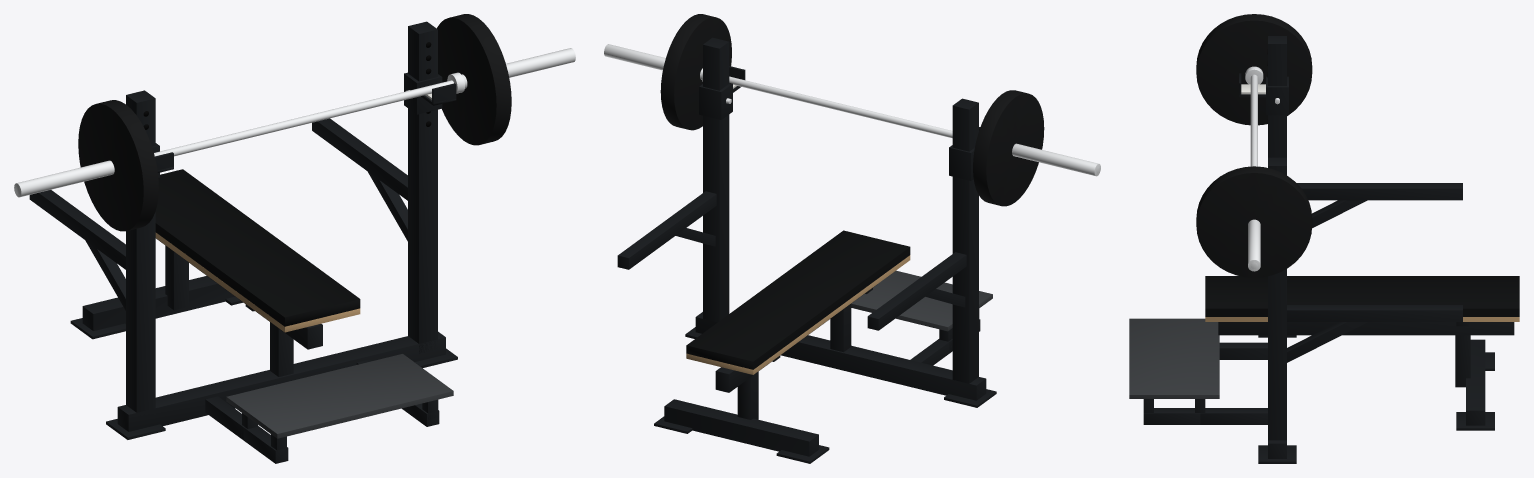
3 views of the same model, side by side, from view 1: azimuth 30°, elevation 25°; view 2: azimuth 150°, elevation 25°; view 3: azimuth 270°, elevation 25° (orthographic). The views are drawn at different scales.
Parts seen in each view (by area): view 1: pad, tread, frame.017, rubber, rubber.001, frame.011, frame, frame.003, chrome.002, frame.021, frame.015, chrome.003 (+10 smaller); view 2: pad, frame.017, frame.011, rubber, frame, rubber.001, frame.003, tread, frame.015, frame.021, chrome.002, wood (+8 smaller); view 3: pad, rubber.001, rubber, tread, frame.017, frame.006, frame.021, frame.015, frame.011, frame.003, frame.030, frame.022 (+10 smaller).
Boxes of the visible parts, <box> form: pad: <box>155,169,360,326</box>; tread: <box>226,354,453,438</box>; frame.017: <box>408,21,437,353</box>; rubber: <box>78,100,158,231</box>; rubber.001: <box>437,14,511,145</box>; frame.011: <box>126,90,155,417</box>; frame: <box>117,331,445,431</box>; frame.003: <box>82,276,234,330</box>; chrome.002: <box>15,80,453,194</box>; frame.021: <box>312,118,407,200</box>; frame.015: <box>29,190,125,269</box>; chrome.003: <box>14,160,114,197</box>; pad: <box>686,230,910,369</box>; frame.017: <box>703,37,729,322</box>; frame.011: <box>952,98,978,383</box>; rubber: <box>973,90,1044,206</box>; frame: <box>695,312,986,400</box>; rubber.001: <box>660,14,731,130</box>; frame.003: <box>664,399,818,456</box>; tread: <box>851,270,992,331</box>; frame.015: <box>867,252,966,330</box>; frame.021: <box>617,191,716,269</box>; chrome.002: <box>729,76,1099,173</box>; wood: <box>686,255,910,374</box>; pad: <box>1205,276,1519,316</box>; rubber.001: <box>1196,166,1312,277</box>; rubber: <box>1196,14,1312,125</box>; tread: <box>1129,318,1219,398</box>; frame.017: <box>1268,157,1286,440</box>; frame.006: <box>1218,322,1514,335</box>; frame.021: <box>1287,305,1462,321</box>; frame.015: <box>1297,183,1462,200</box>; frame.011: <box>1268,36,1286,157</box>; frame.003: <box>1466,339,1485,425</box>; frame.030: <box>1200,408,1267,424</box>; frame.022: <box>1287,322,1367,362</box>.
Bounding box in the file's own units: 2.2 × 1.28 × 1.52.
